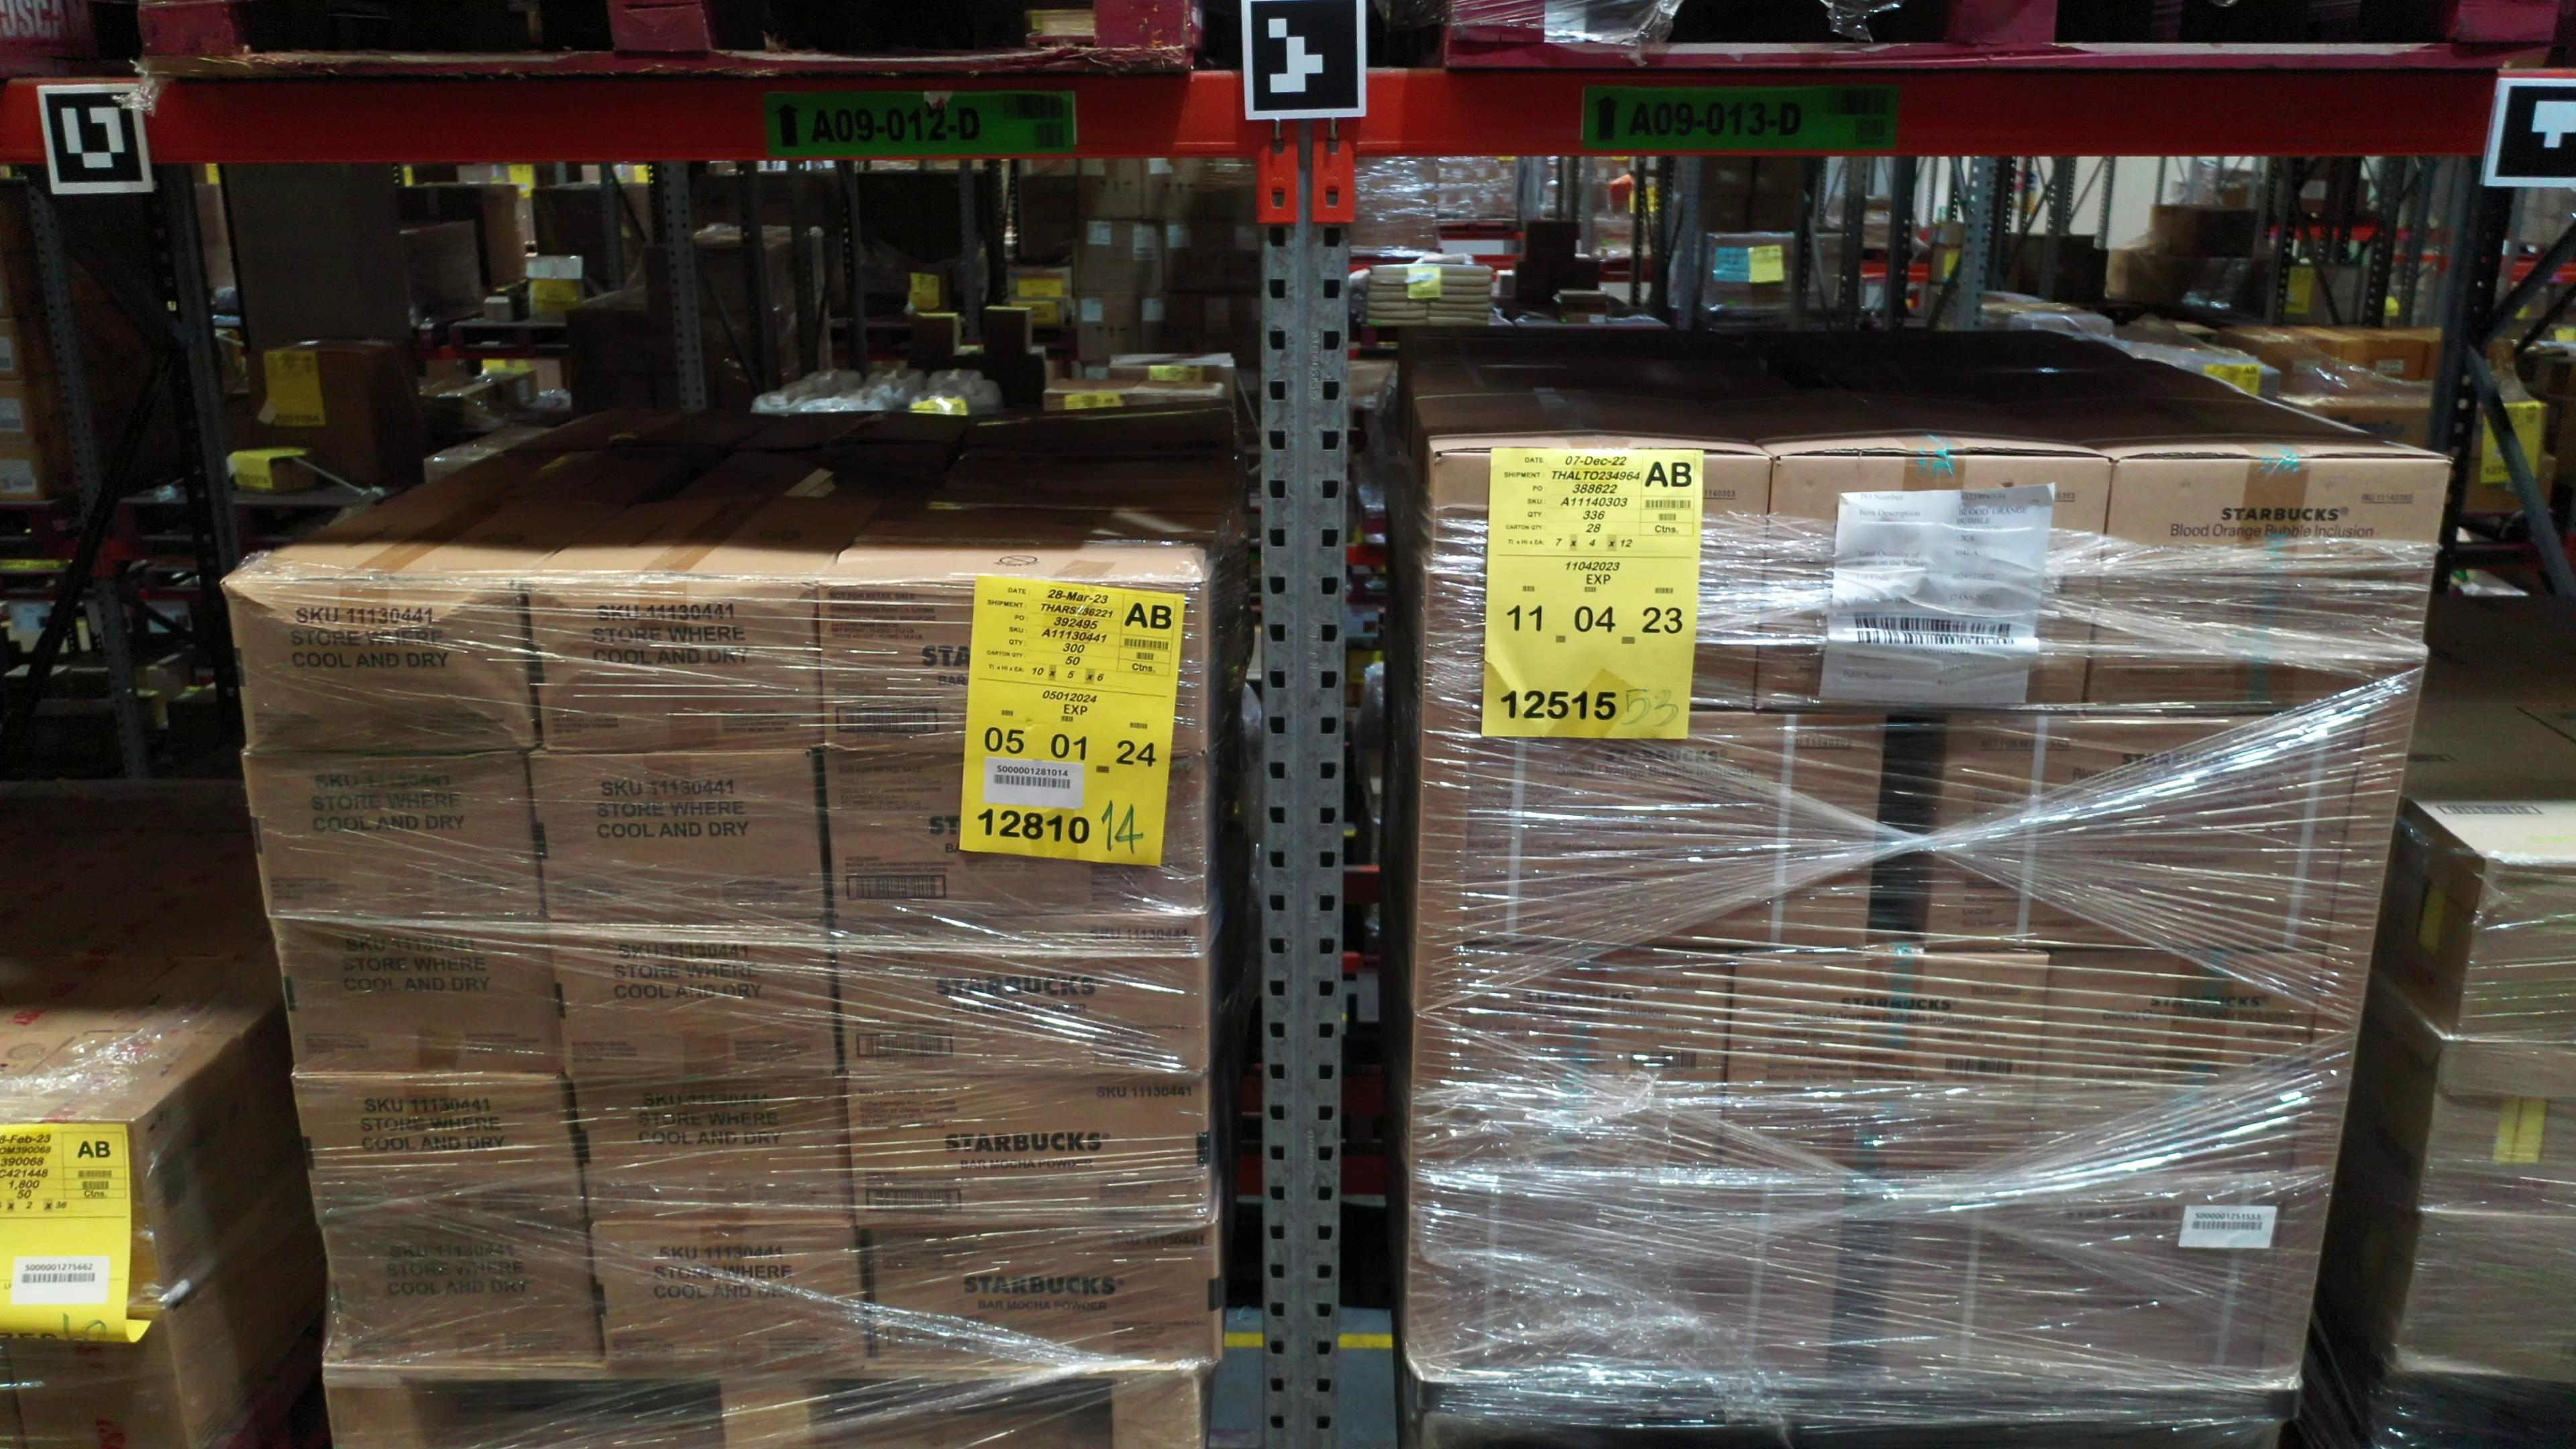-: (1923, 704, 2417, 952), (1414, 706, 1888, 957), (1874, 1180, 2335, 1391), (2082, 456, 2450, 715), (1412, 1171, 1847, 1387), (1757, 455, 2116, 715), (1421, 449, 1771, 711), (2024, 947, 2371, 1187), (1720, 950, 2051, 1180), (1408, 947, 1734, 1180), (821, 577, 1207, 752), (821, 752, 1210, 916), (832, 916, 1205, 1077), (846, 1074, 1214, 1230), (223, 575, 536, 757), (527, 747, 828, 924), (525, 577, 824, 748), (244, 752, 543, 922), (870, 1226, 1223, 1366), (271, 916, 566, 1077), (545, 922, 840, 1083), (290, 1074, 586, 1226), (570, 1074, 856, 1228), (587, 1221, 872, 1375), (322, 1221, 602, 1366), (2397, 1212, 2576, 1380), (0, 1118, 159, 1302), (2417, 1037, 2576, 1221), (0, 1302, 189, 1447), (2450, 858, 2576, 1047)
